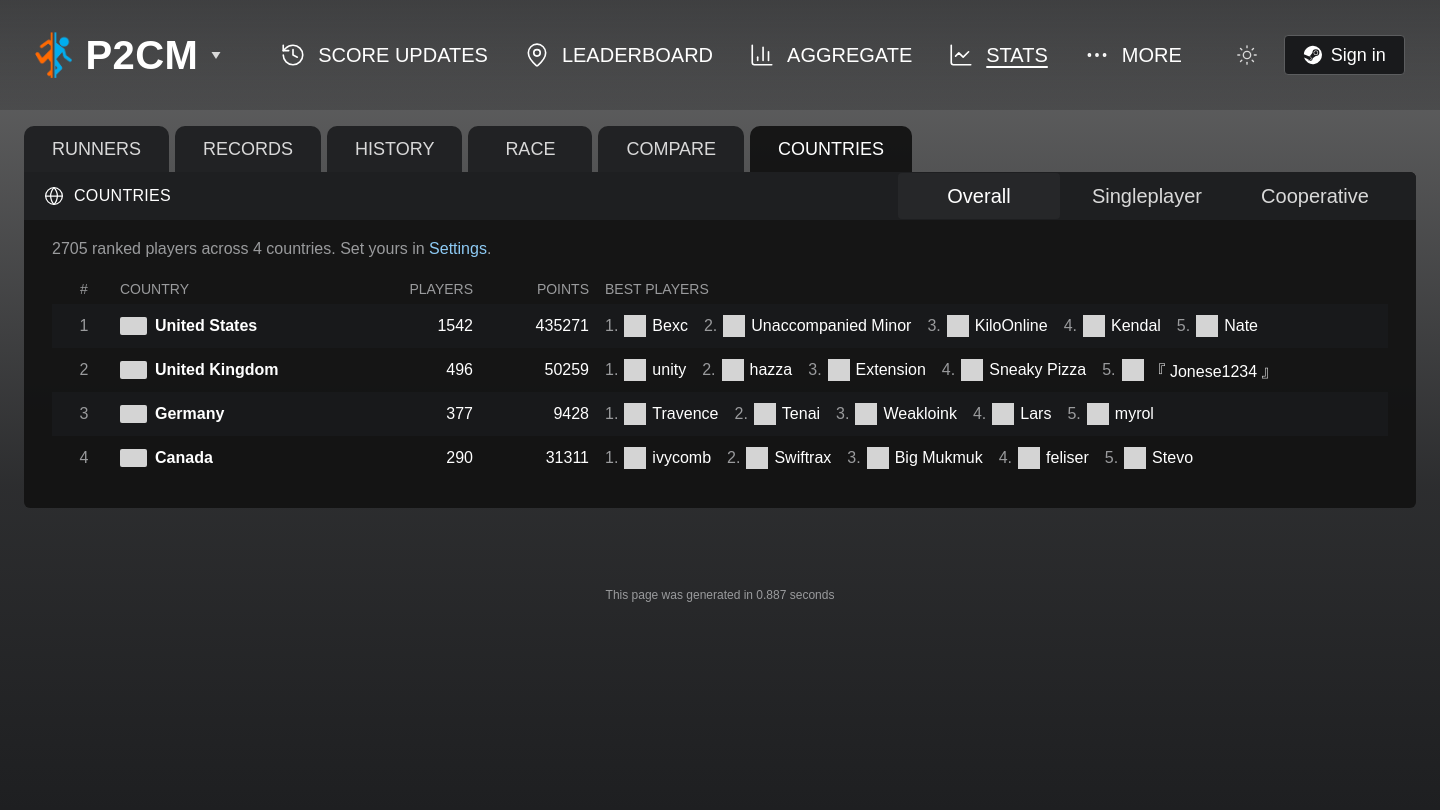
it: Countries › switches board (not kept in the address, as legacy)
The image size is (1440, 810).
Check: the table named "Countries" is shown, box [52,274,1388,480]
Click the radio button labelled "Cooperative": {"x": 1315, "y": 196} [1234,173,1396,219]
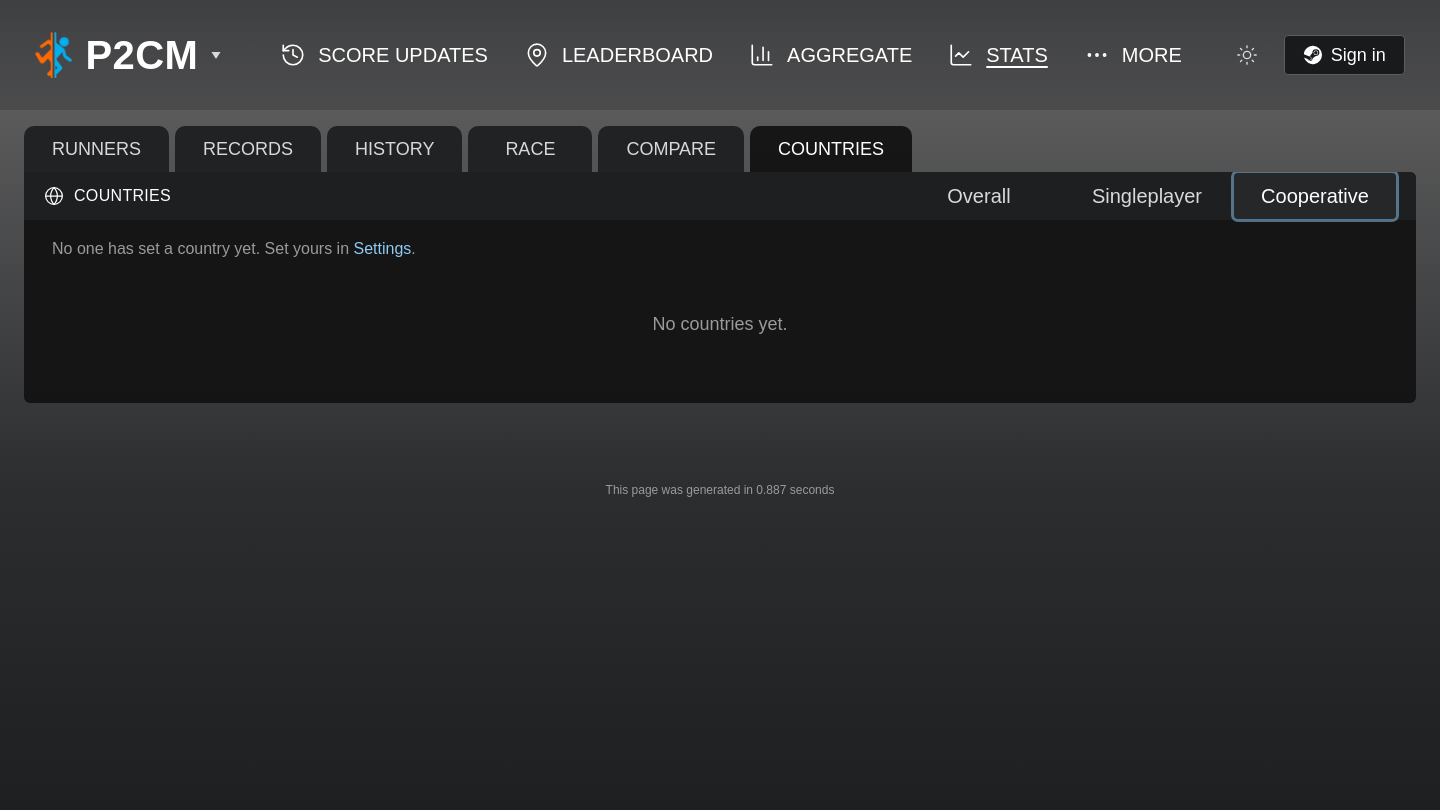
Check: the text "No countries yet." is shown, box [652,314,788,334]
Check: the text "No one has set a country yet. Set yours in Settings ." is shown, box [52,240,416,257]
